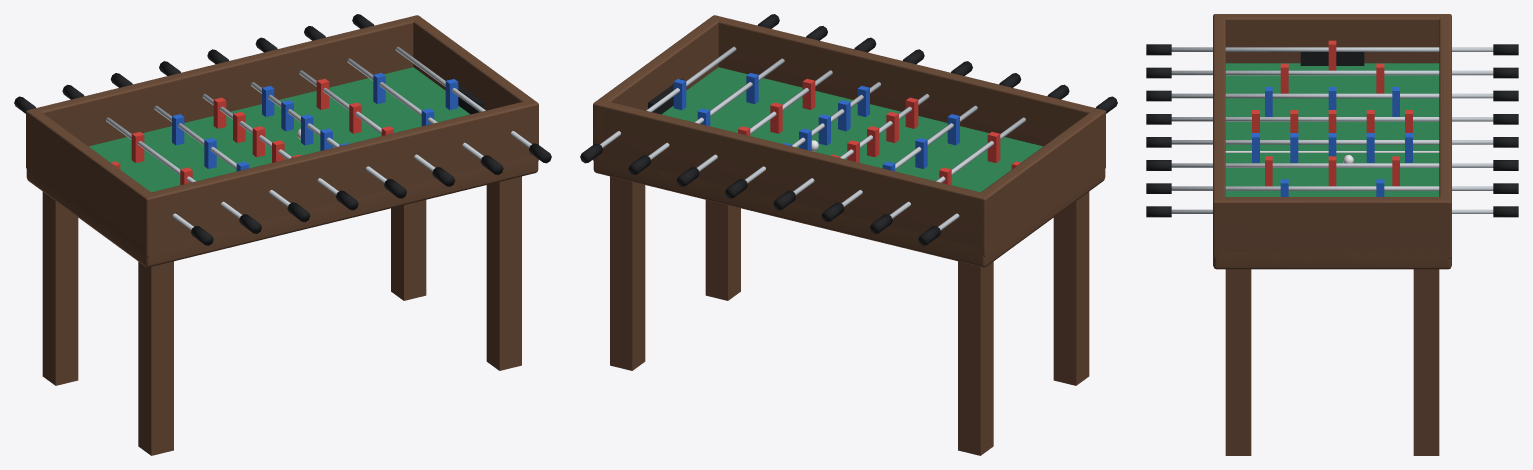
File: Foosball.fbx
3 renders of one model, left to right at view 1: azimuth 30°, elevation 25°; view 2: azimuth 150°, elevation 25°; view 3: azimuth 270°, elevation 25°, orthographic.
Visible parts, largest first — view 1: FoosballBody; view 2: FoosballBody; view 3: FoosballBody.
Boxes of the visible parts, x1,y1,x2,y2 form: FoosballBody: (14,14,551,455); FoosballBody: (580,14,1117,455); FoosballBody: (1146,14,1518,455).
Size of the model in its own units: 1.4 by 0.9 by 1.17.
